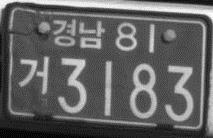1: (101, 59, 116, 118), (144, 21, 159, 53)
3: (57, 56, 89, 115), (164, 63, 195, 122)
8: (127, 62, 159, 119), (114, 21, 137, 52)
거: (17, 55, 51, 95)
경남_O: (50, 17, 106, 51)
